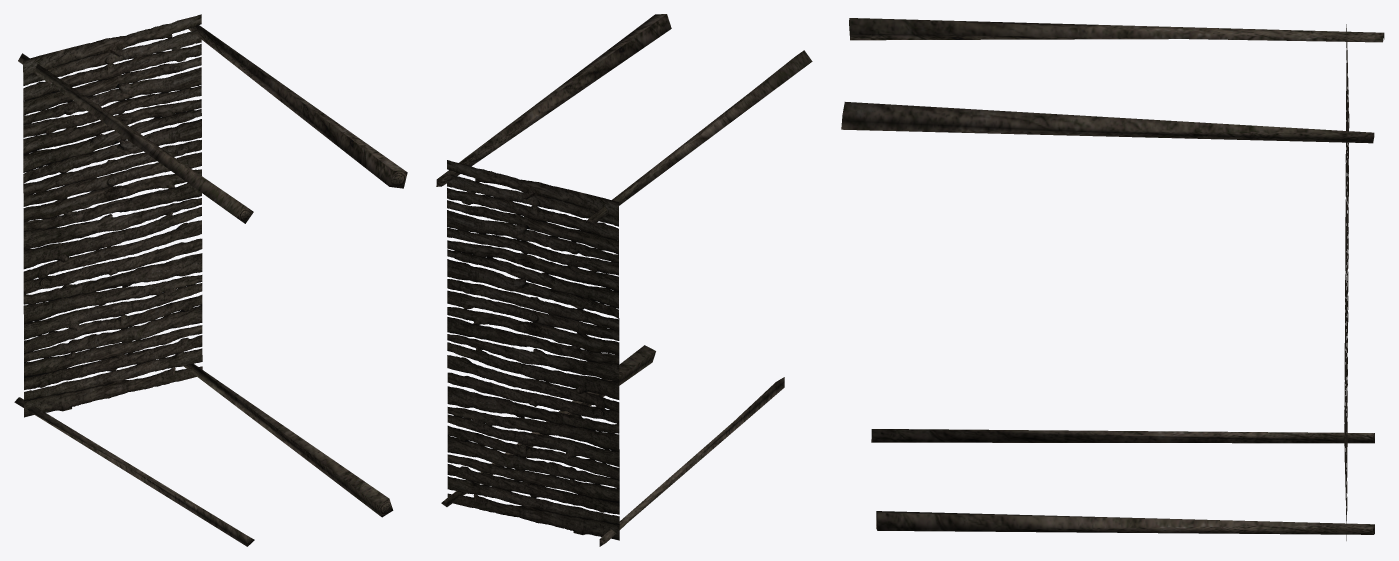
File: MEP_Walk_01_LOD_02.fbx
3 renders of one model, left to right at view 1: azimuth 30°, elevation 25°; view 2: azimuth 150°, elevation 25°; view 3: azimuth 270°, elevation 25°, orthographic. The views are drawn at different scales.
Parts seen in each view (by area): view 1: MEP_Walk_01_LOD_02; view 2: MEP_Walk_01_LOD_02; view 3: MEP_Walk_01_LOD_02.
Boxes of the visible parts, left/top/right/bottom form: MEP_Walk_01_LOD_02: left=14, top=14, right=407, bottom=546; MEP_Walk_01_LOD_02: left=436, top=14, right=812, bottom=546; MEP_Walk_01_LOD_02: left=841, top=18, right=1384, bottom=540.
Bounding box in the file's own units: 2.71 × 5.23 × 5.92.
